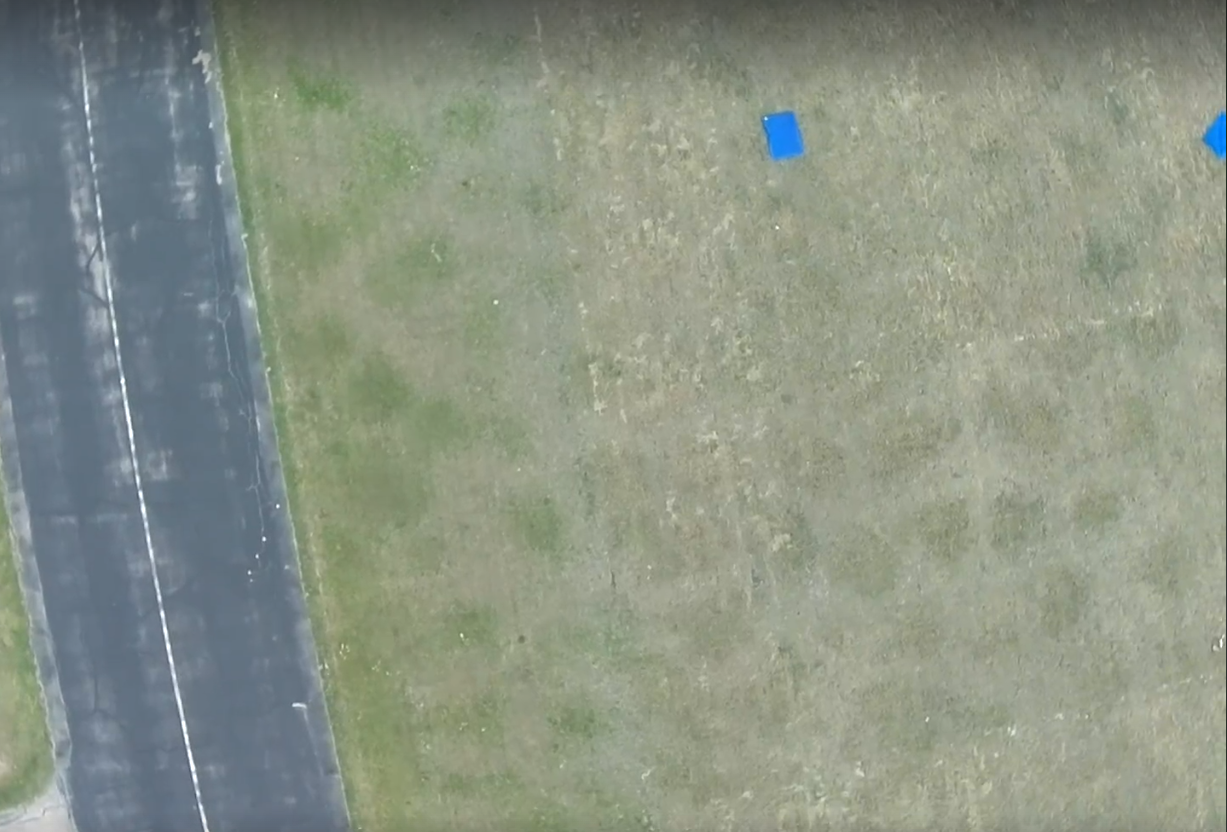TOI: (758, 112, 807, 157), (1201, 108, 1227, 157)
